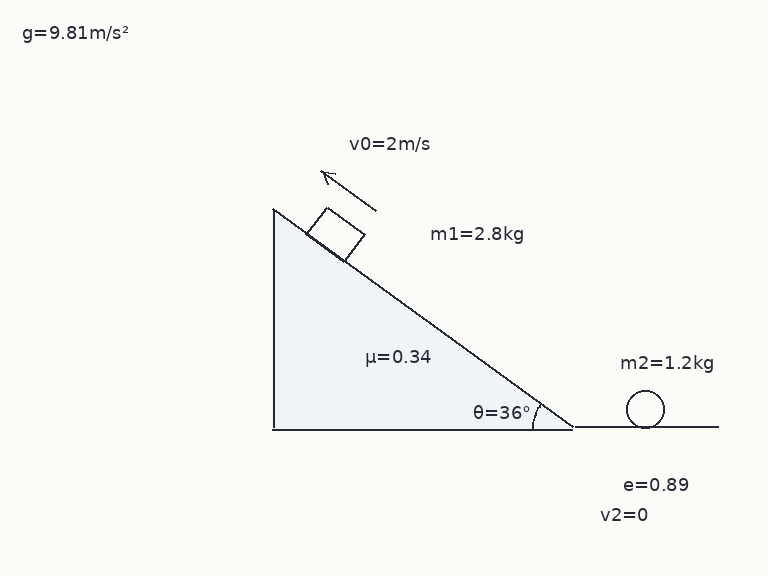ball: (624, 388, 666, 430)
block: (304, 205, 366, 264)
ramp: (271, 208, 575, 430)
